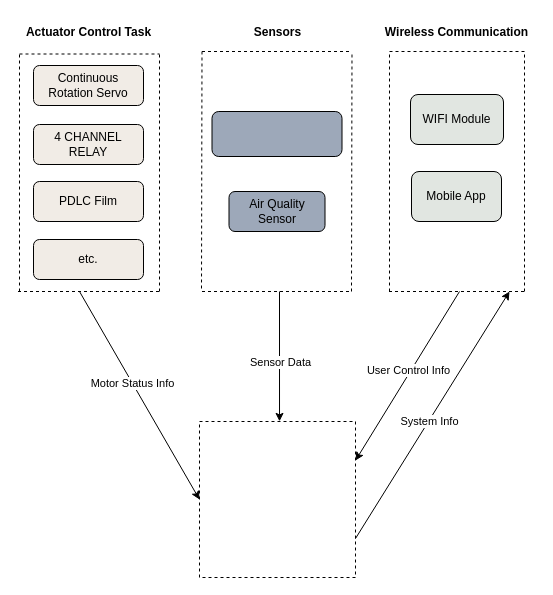
Image size: 553x595. Some labels were removed from this diagram. The shapes that lost their labels are listed below. From the top down, each one's centre as x and y in pixels, then its label:
At (x=276, y=133): "Temperature- Humidity Sensor".
At (x=277, y=499): "System Control Task".
